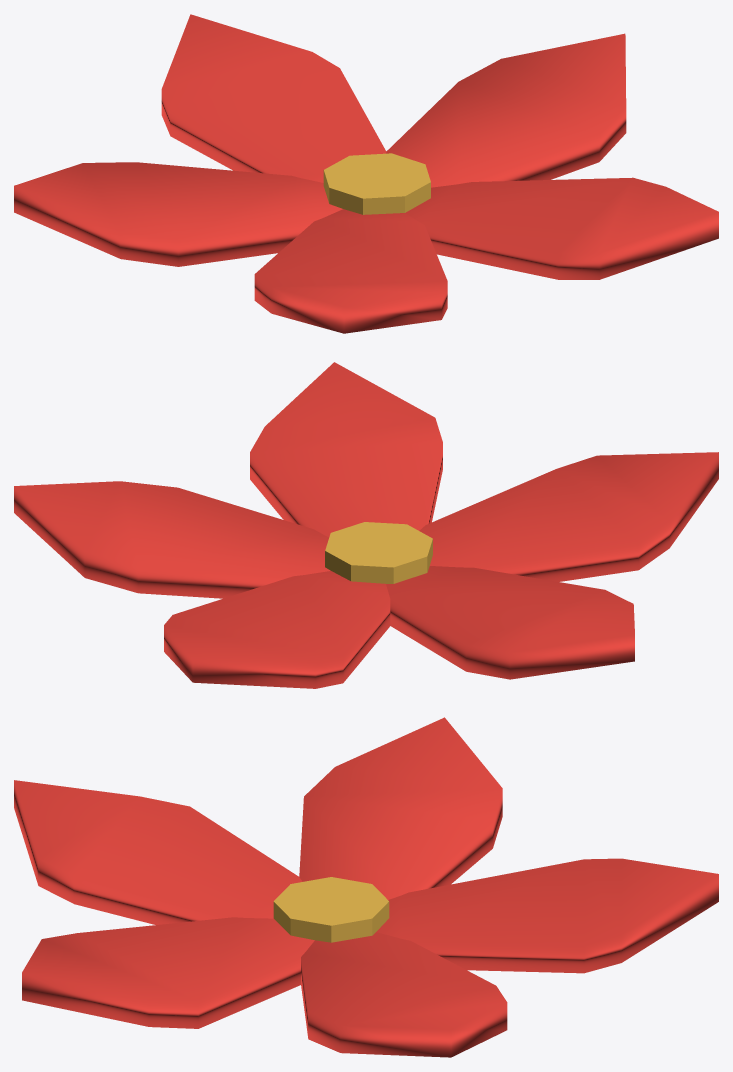
File: Flower_Red_5.fbx
3 renders of one model, top to bottom at view 1: azimuth 30°, elevation 25°; view 2: azimuth 150°, elevation 25°; view 3: azimuth 270°, elevation 25°, orthographic. The views are drawn at different scales.
Parts seen in each view (by area): view 1: Cube.095, Cylinder.255 (1); view 2: Cube.095, Cylinder.255 (1); view 3: Cube.095, Cylinder.255 (1).
Boxes of the visible parts, x1,y1,x2,y2 form: Cube.095: [14, 14, 718, 333]; Cylinder.255 (1): [323, 153, 430, 214]; Cube.095: [14, 362, 718, 688]; Cylinder.255 (1): [325, 522, 432, 583]; Cube.095: [14, 717, 718, 1057]; Cylinder.255 (1): [273, 877, 389, 942].
Size of the model in its own units: 71.56 by 7.88 by 68.25.
